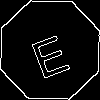E: (25, 25, 72, 80)
